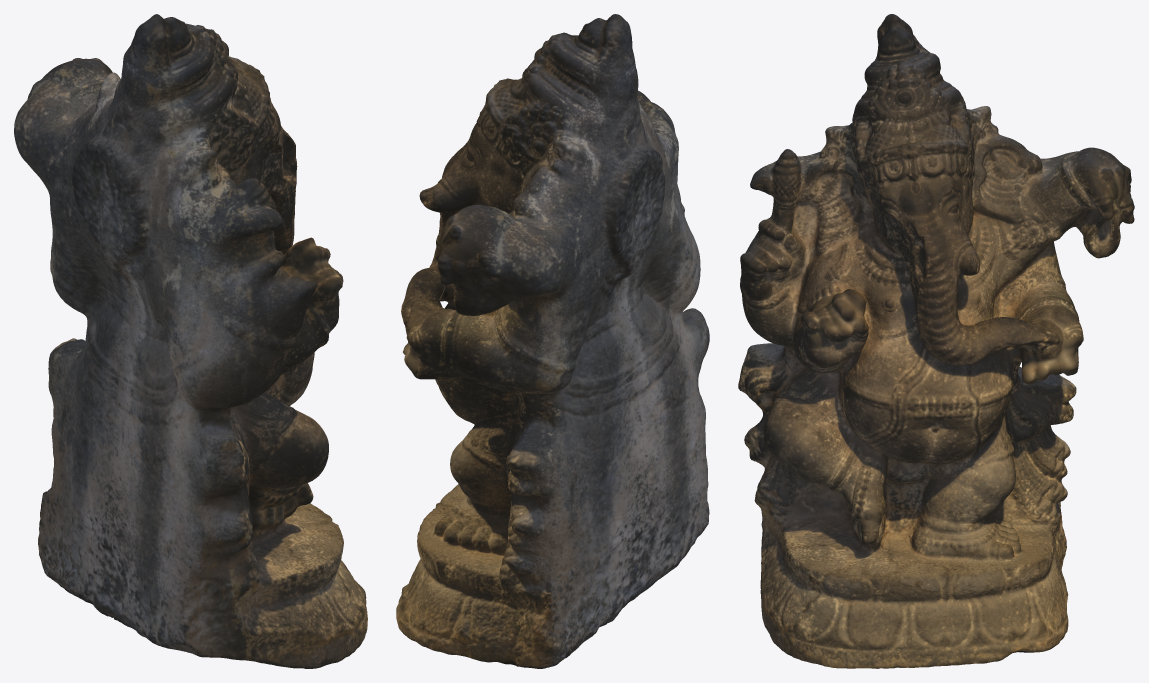
File: preview.glb
3 renders of one model, left to right at view 1: azimuth 30°, elevation 25°; view 2: azimuth 150°, elevation 25°; view 3: azimuth 270°, elevation 25°, orthographic. The views are drawn at different scales.
Visible parts, largest first — view 1: Model; view 2: Model; view 3: Model.
Boxes of the visible parts, x1,y1,x2,y2 form: Model: (14, 14, 367, 668); Model: (396, 14, 709, 668); Model: (738, 14, 1134, 668).
Bounding box in the file's own units: 146 × 384 × 239.
Materials: 1 (1 with a texture image).
